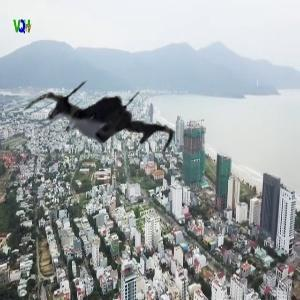drone: (35, 48, 177, 190)
